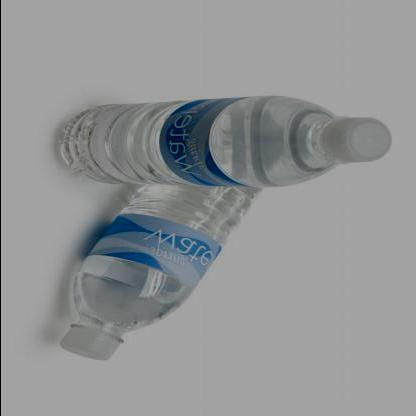bottle: (46, 180, 274, 376), (34, 86, 414, 197)
